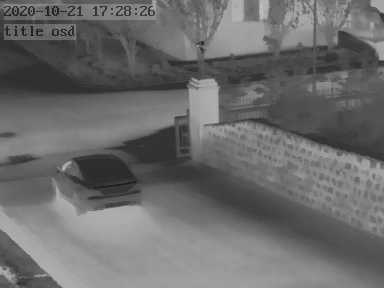vehicle: (52, 152, 141, 214)
